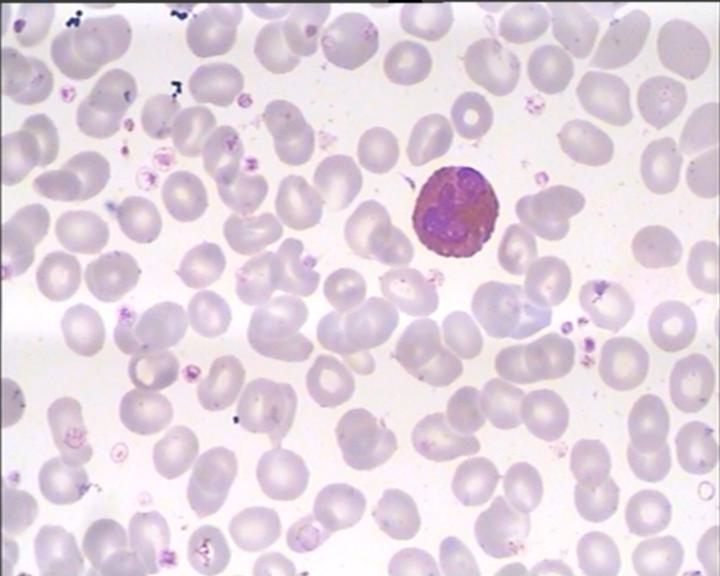eosi: (407, 161, 500, 261)
